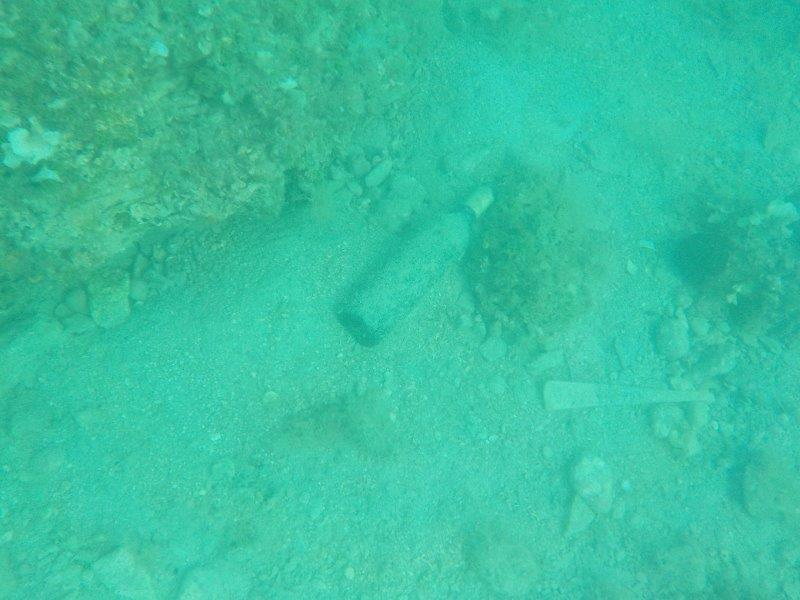bottle: (332, 177, 499, 353)
